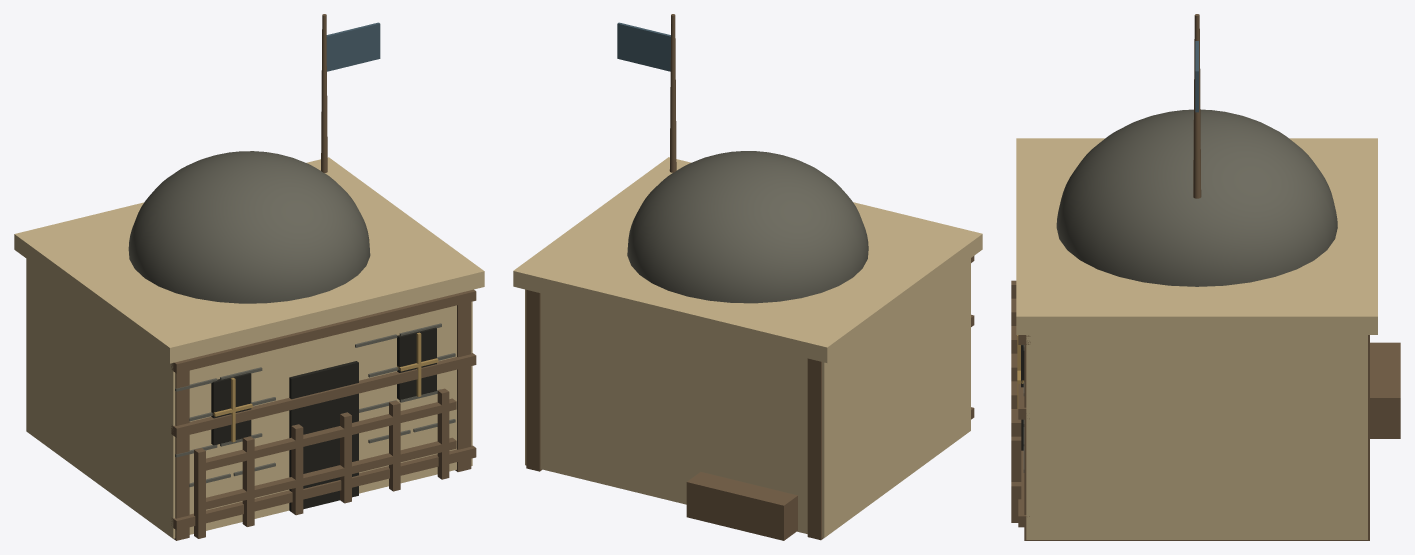
The model's file is b-stable-ayyubid.glb.
3 views of the same model, side by side, from view 1: azimuth 30°, elevation 25°; view 2: azimuth 150°, elevation 25°; view 3: azimuth 270°, elevation 25° (orthographic). The views are drawn at different scales.
Parts seen in each view (by area): view 1: Structure; view 2: Structure; view 3: Structure.
Part boxes in pixels (x1,y1,x2,y2): Structure: [14, 14, 484, 540]; Structure: [513, 14, 982, 540]; Structure: [1011, 14, 1400, 540].
Bounding box in the file's own units: 4.2 × 5.33 × 3.88.
